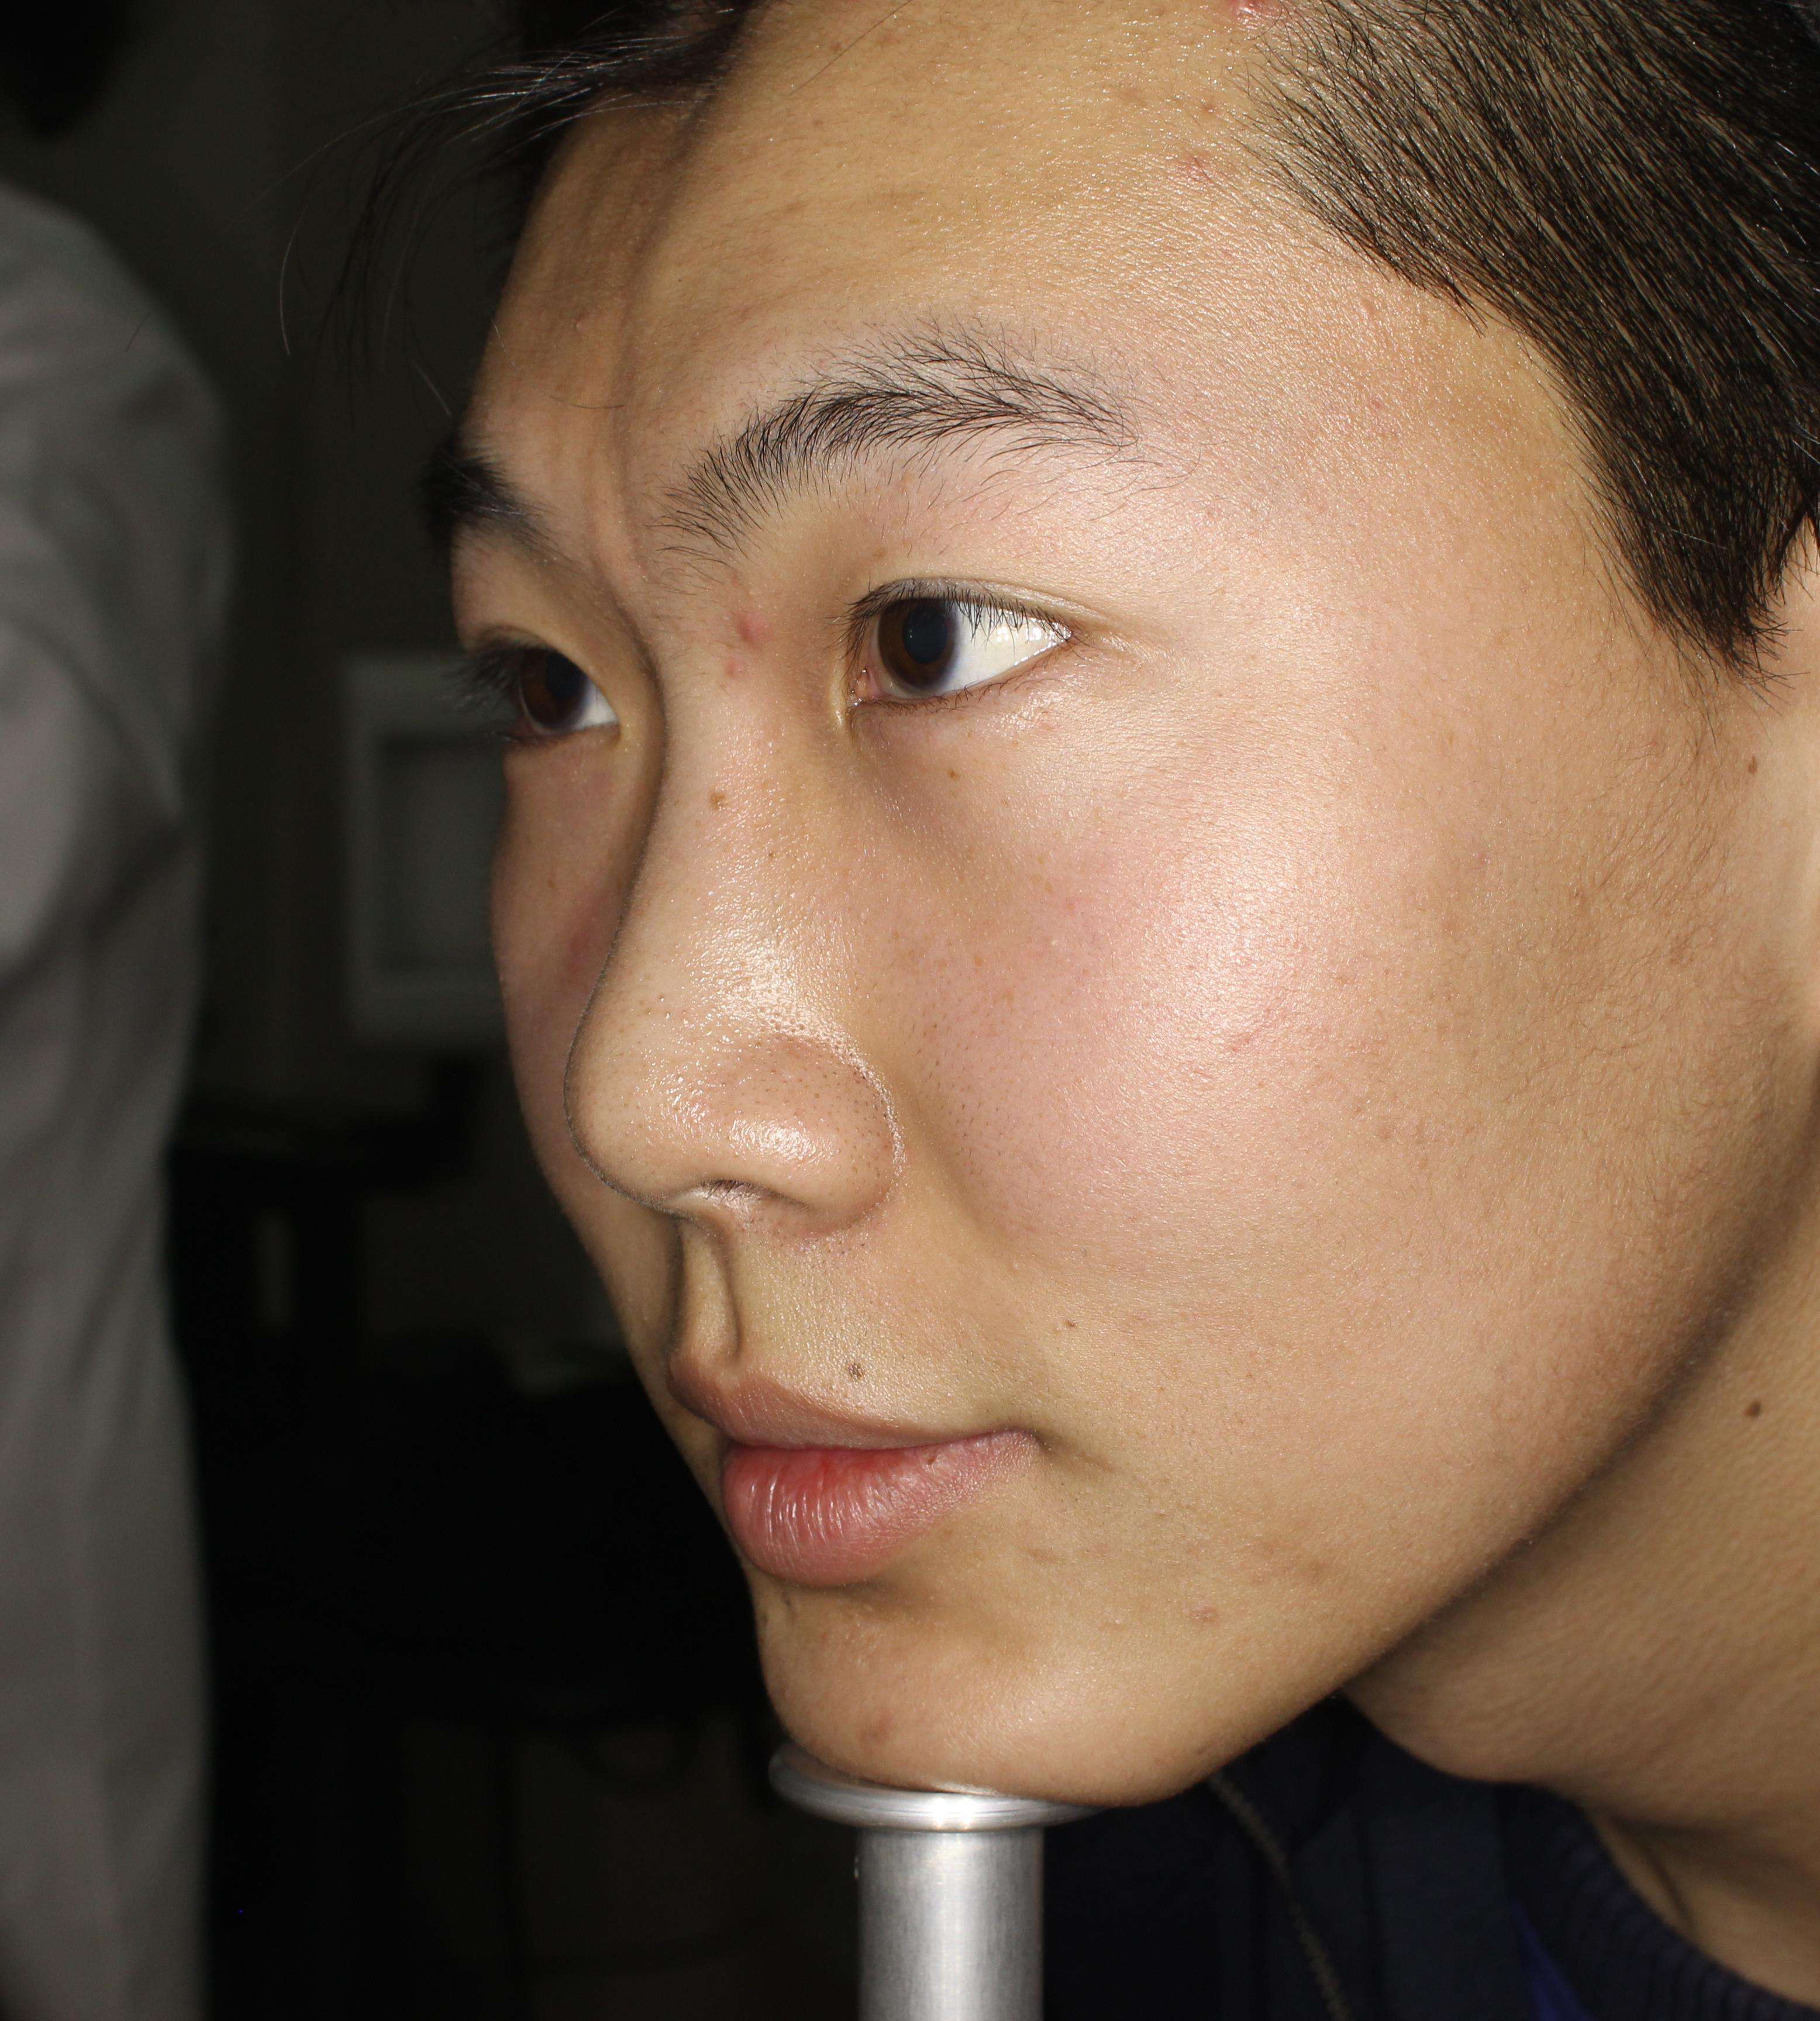fore: (687, 585, 826, 694)
